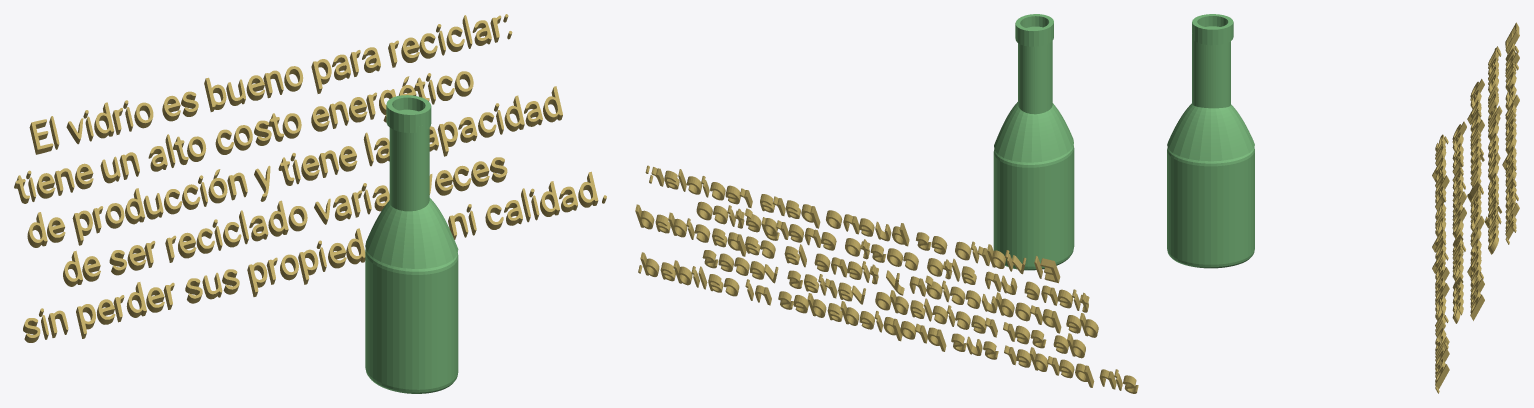
Rendered from asset.glb.
3 views of the same model, side by side, from view 1: azimuth 30°, elevation 25°; view 2: azimuth 150°, elevation 25°; view 3: azimuth 270°, elevation 25° (orthographic). The views are drawn at different scales.
Parts seen in each view (by area): view 1: Mesh_Mesh_head_geo.001_lambert2SG.001; view 2: Mesh_Mesh_head_geo.001_lambert2SG.001; view 3: Mesh_Mesh_head_geo.001_lambert2SG.001.
Boxes of the visible parts, <box> form: Mesh_Mesh_head_geo.001_lambert2SG.001: <box>14,14,606,393</box>; Mesh_Mesh_head_geo.001_lambert2SG.001: <box>635,14,1138,393</box>; Mesh_Mesh_head_geo.001_lambert2SG.001: <box>1167,14,1519,393</box>.
Bounding box in the file's own units: 678 × 314 × 417.
